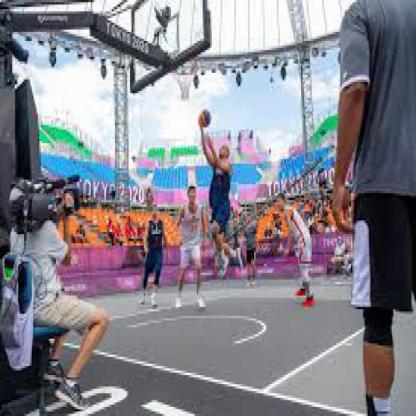basketball: (198, 106, 212, 128)
rim: (172, 62, 196, 80)
